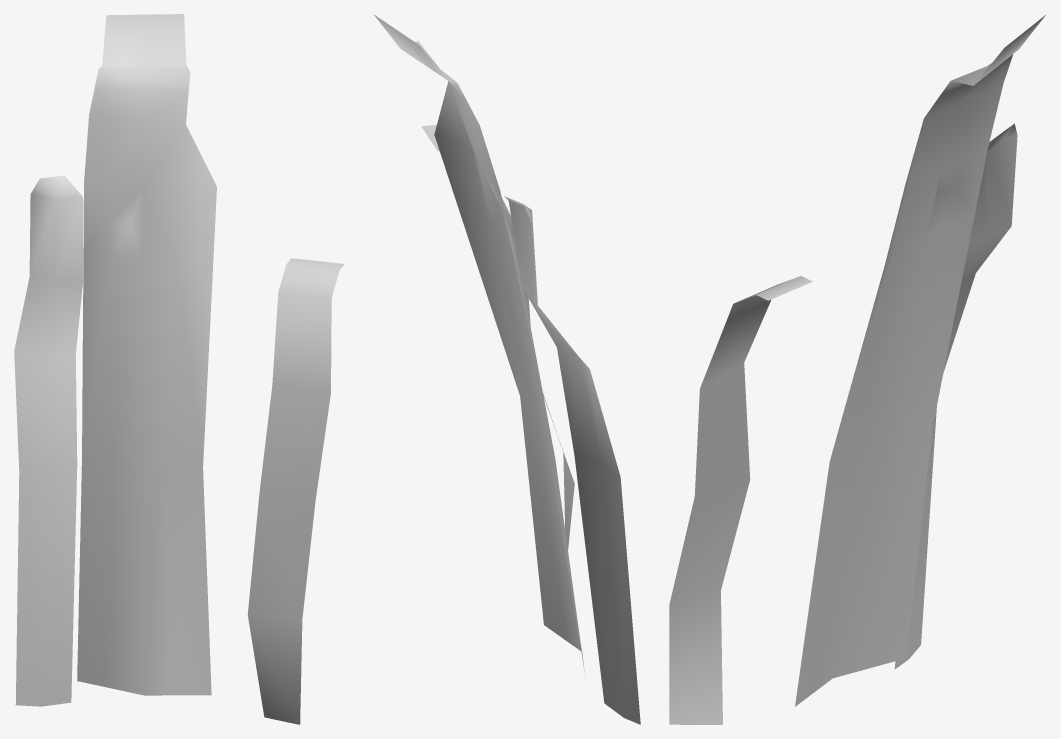
Rendered from xl_liushui_4.FBX.
3 views of the same model, side by side, from view 1: azimuth 30°, elevation 25°; view 2: azimuth 150°, elevation 25°; view 3: azimuth 270°, elevation 25° (orthographic). The views are drawn at different scales.
Visible parts, largest first — view 1: xl_liushui_4; view 2: xl_liushui_4; view 3: xl_liushui_4.
Boxes of the visible parts, x1,y1,x2,y2 form: xl_liushui_4: (14, 14, 344, 724); xl_liushui_4: (374, 15, 640, 724); xl_liushui_4: (669, 15, 1045, 724).
Size of the model in its own units: 4532 by 10164 by 4858.
